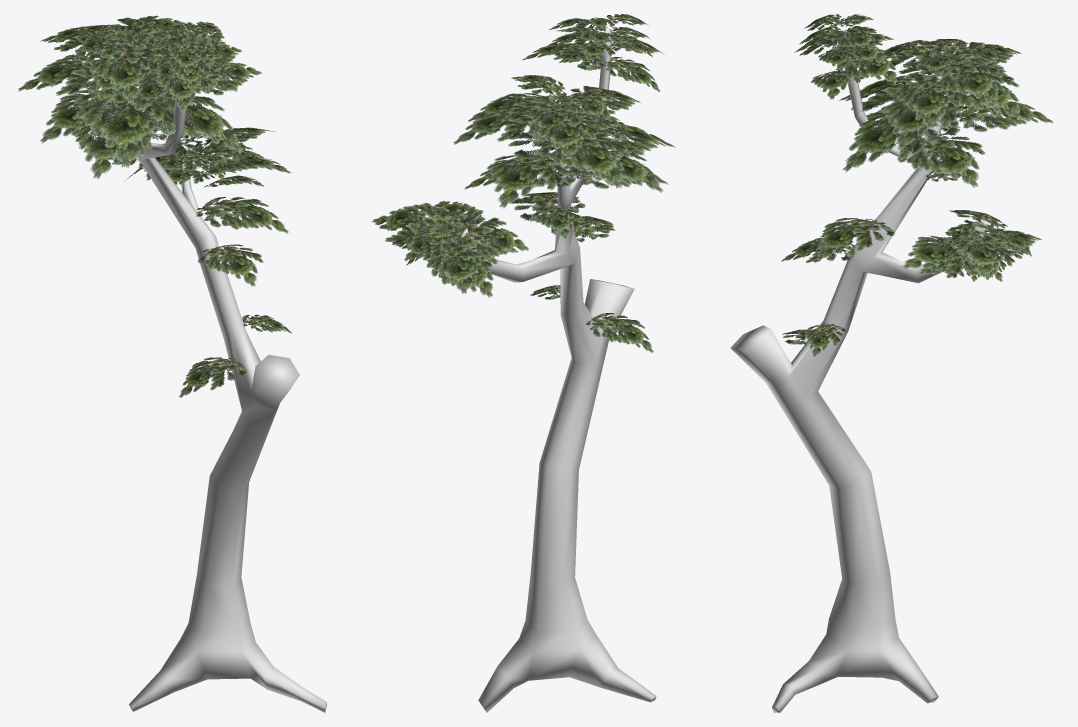
File: WierdTree.fbx
3 views of the same model, side by side, from view 1: azimuth 30°, elevation 25°; view 2: azimuth 150°, elevation 25°; view 3: azimuth 270°, elevation 25° (orthographic). The views are drawn at different scales.
Visible parts, largest first — view 1: Cube.003; view 2: Cube.003; view 3: Cube.003.
Part boxes in pixels (left/top/right/bottom): Cube.003: left=18, top=15, right=326, bottom=712; Cube.003: left=371, top=14, right=675, bottom=712; Cube.003: left=730, top=14, right=1053, bottom=712.
Bounding box in the file's own units: 1240 × 1362 × 2930.
